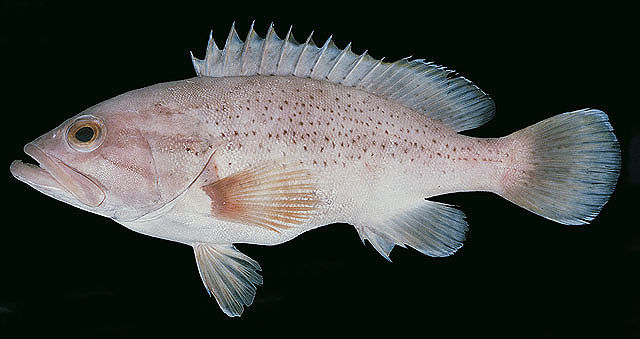fish: (10, 20, 622, 318)
